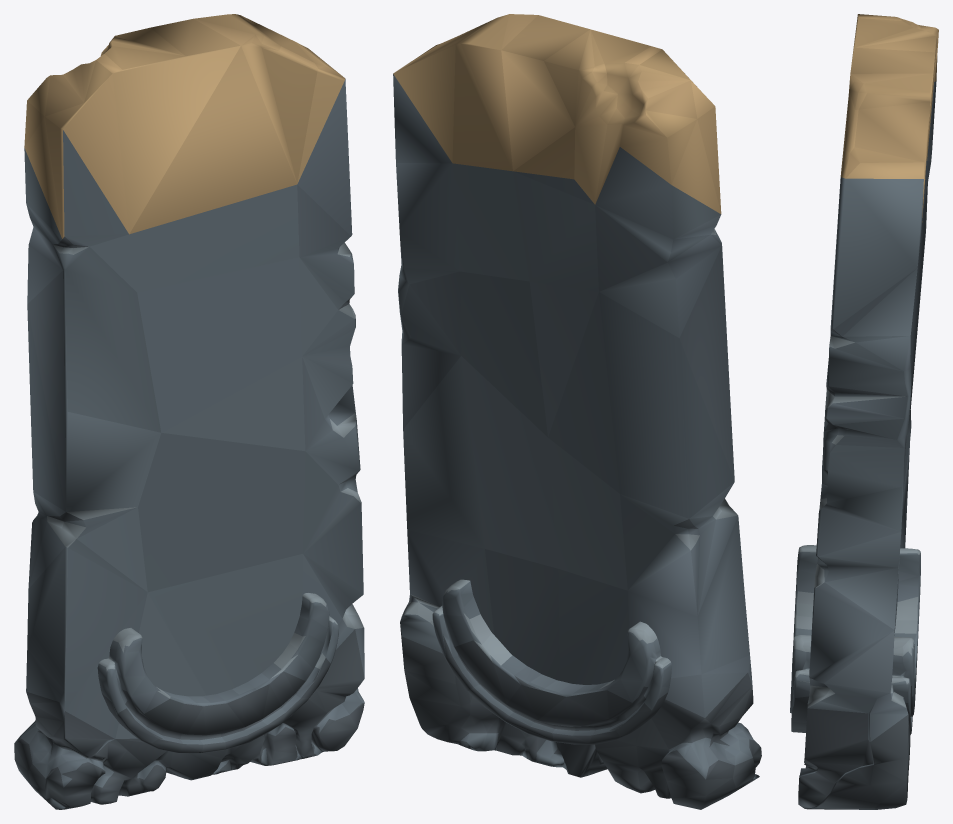
File: shrine.glb
3 renders of one model, left to right at view 1: azimuth 30°, elevation 25°; view 2: azimuth 150°, elevation 25°; view 3: azimuth 270°, elevation 25°, orthographic. The views are drawn at different scales.
Parts seen in each view (by area): view 1: Smart_shrine; view 2: Smart_shrine; view 3: Smart_shrine.
Boxes of the visible parts, x1,y1,x2,y2 form: Smart_shrine: (14, 14, 364, 809); Smart_shrine: (393, 14, 761, 809); Smart_shrine: (790, 14, 938, 809).
Size of the model in its own units: 1.2 by 2.6 by 0.5.
